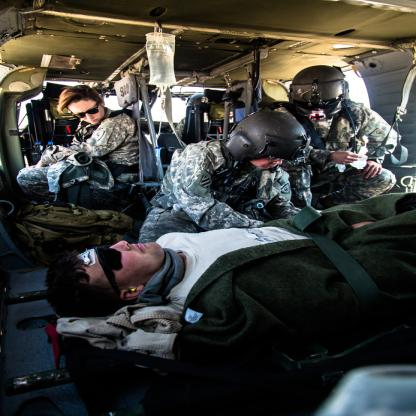Helmet: (228, 109, 326, 166), (289, 66, 348, 122)
